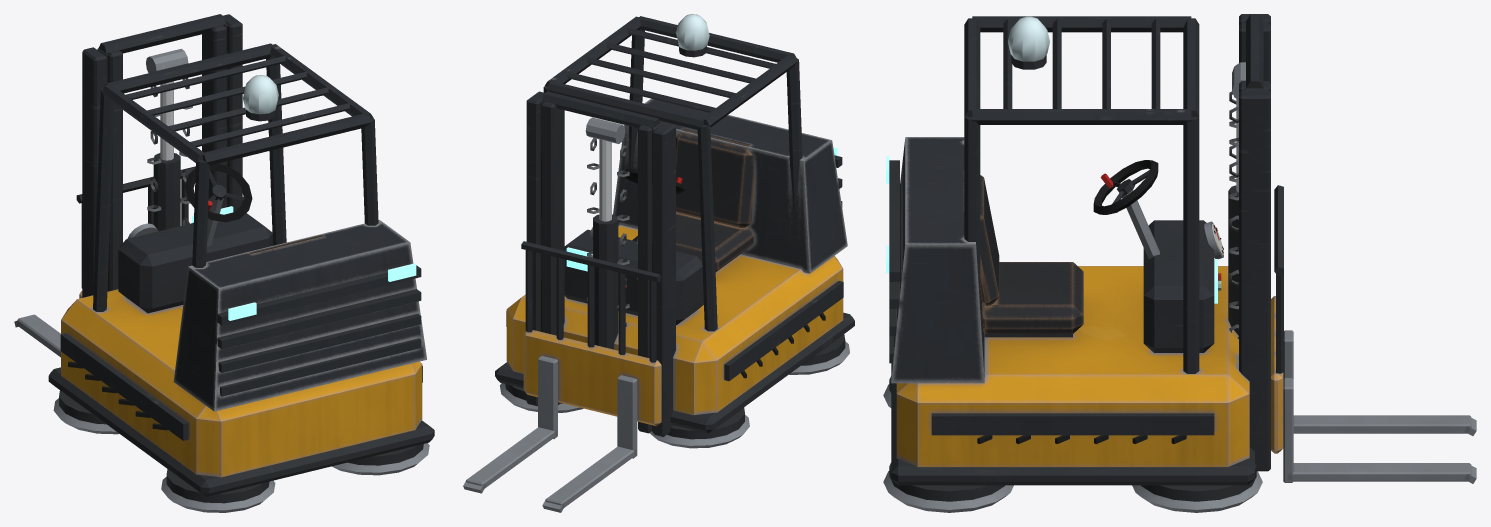
File: montacargas.fbx
3 renders of one model, left to right at view 1: azimuth 30°, elevation 25°; view 2: azimuth 150°, elevation 25°; view 3: azimuth 270°, elevation 25°, orthographic. The views are drawn at different scales.
Visible parts, largest first — view 1: montacargas, montacargas_horquilla, montacargas_cristal, montacargas_luces_neon; view 2: montacargas, montacargas_horquilla, montacargas_cristal; view 3: montacargas, montacargas_horquilla, montacargas_cristal.
Boxes of the visible parts, x1,y1,x2,y2 form: montacargas: [48, 14, 434, 512]; montacargas_horquilla: [14, 166, 195, 357]; montacargas_cristal: [243, 75, 278, 114]; montacargas_luces_neon: [192, 206, 416, 320]; montacargas: [495, 16, 854, 448]; montacargas_horquilla: [463, 241, 661, 512]; montacargas_cristal: [676, 14, 709, 50]; montacargas: [883, 14, 1270, 512]; montacargas_horquilla: [1271, 185, 1476, 483]; montacargas_cristal: [1008, 16, 1049, 61].
Bounding box in the file's own units: 1.91 × 2.73 × 3.36.
5 materials, 1 textured.
